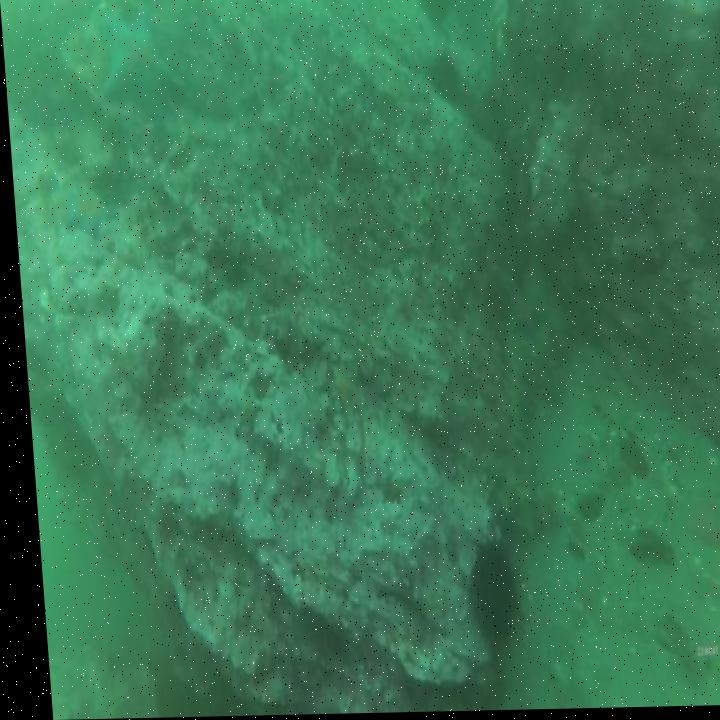echinus: (451, 533, 511, 656), (423, 45, 466, 115), (417, 0, 460, 37)
holothurian: (645, 606, 696, 686), (491, 473, 554, 536)
starfish: (93, 0, 188, 108), (50, 180, 119, 245)
